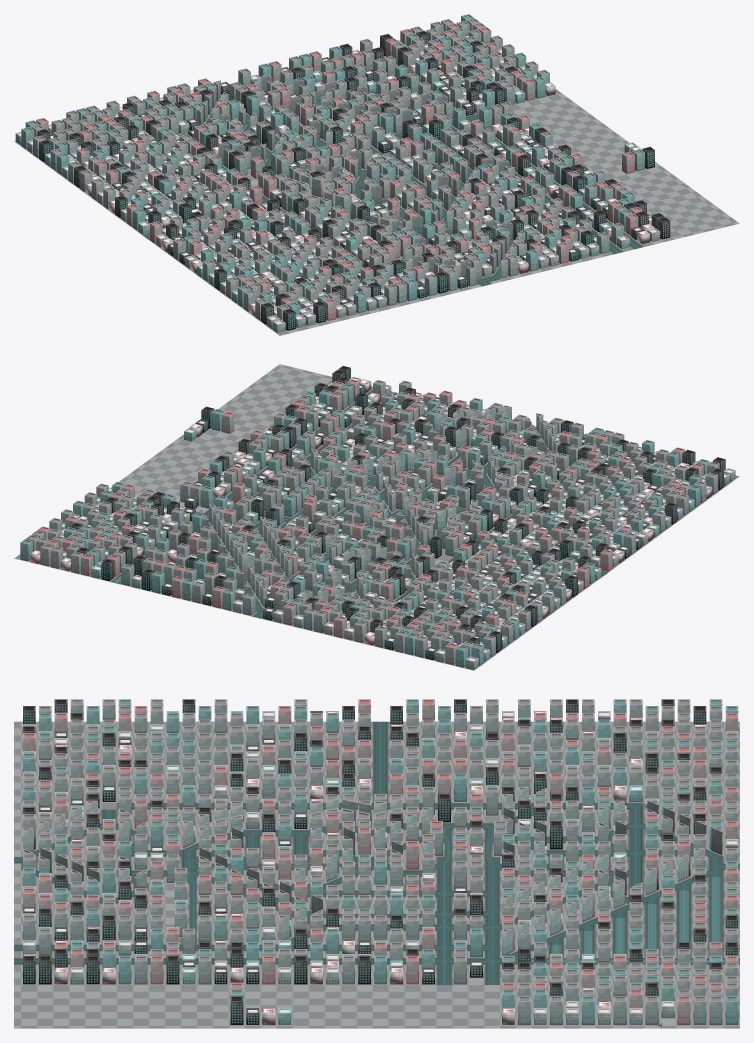
File: level 3_sf.glb
3 renders of one model, top to bottom at view 1: azimuth 30°, elevation 25°; view 2: azimuth 150°, elevation 25°; view 3: azimuth 270°, elevation 25°, orthographic. The views are drawn at different scales.
Parts seen in each view (by area): view 1: SMALL.593, Plane; view 2: SMALL.593, Plane; view 3: SMALL.593, Plane.
Part boxes in pixels (box(x1,y1,x2,y2)): SMALL.593: box(15, 14, 670, 333); Plane: box(14, 56, 739, 335); SMALL.593: box(20, 366, 735, 669); Plane: box(14, 364, 739, 670); SMALL.593: box(23, 699, 738, 1026); Plane: box(14, 721, 739, 1028).
Bounding box in the file's own units: 455 × 16.97 × 455.
14 materials, 14 textured.
